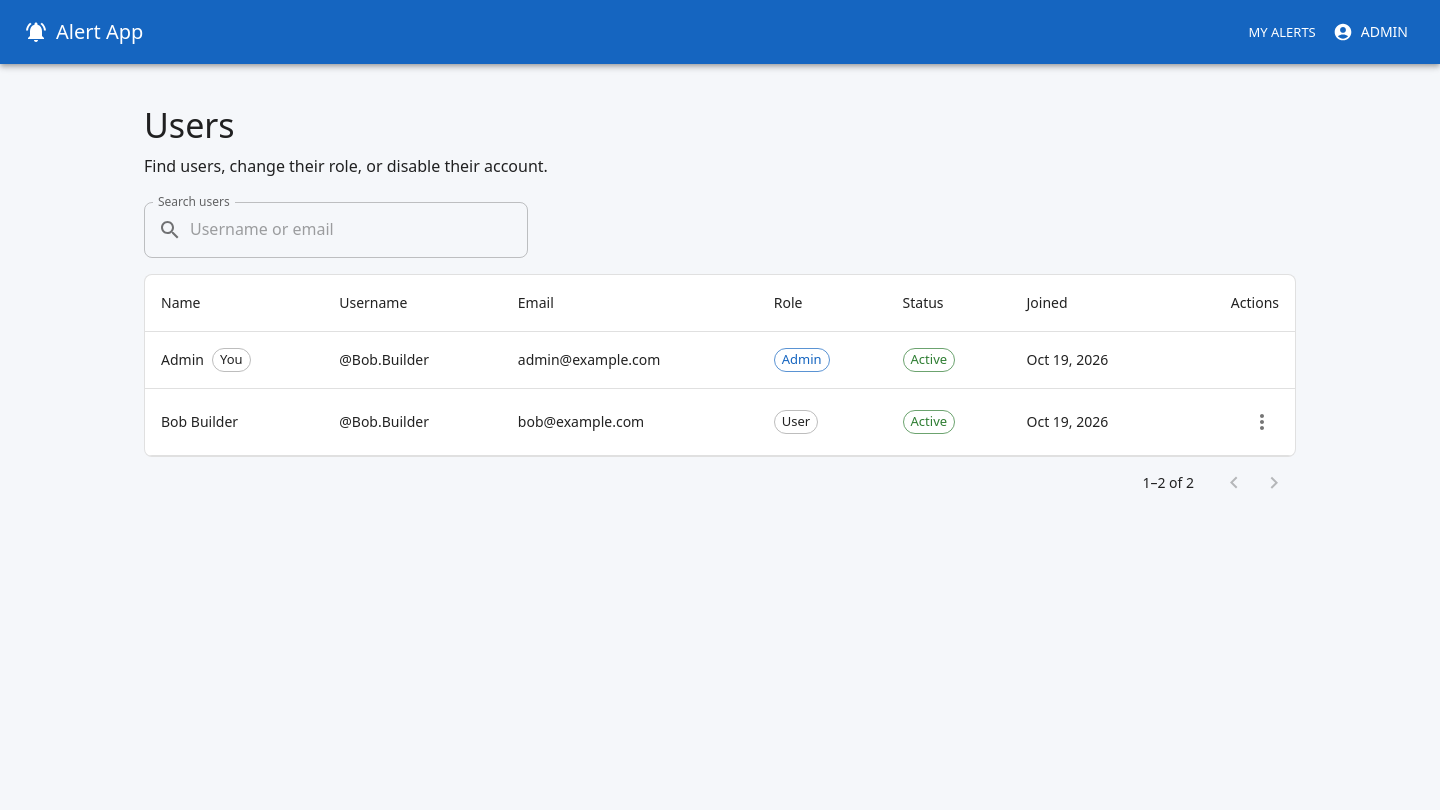
Test case: AdminUsersPage › makes a user admin, then reloads the list and says so
The width and height of the screenshot is (1440, 810).
Click the button named "Actions for Bob Builder" at (1262, 422), box [1245,405,1279,439]
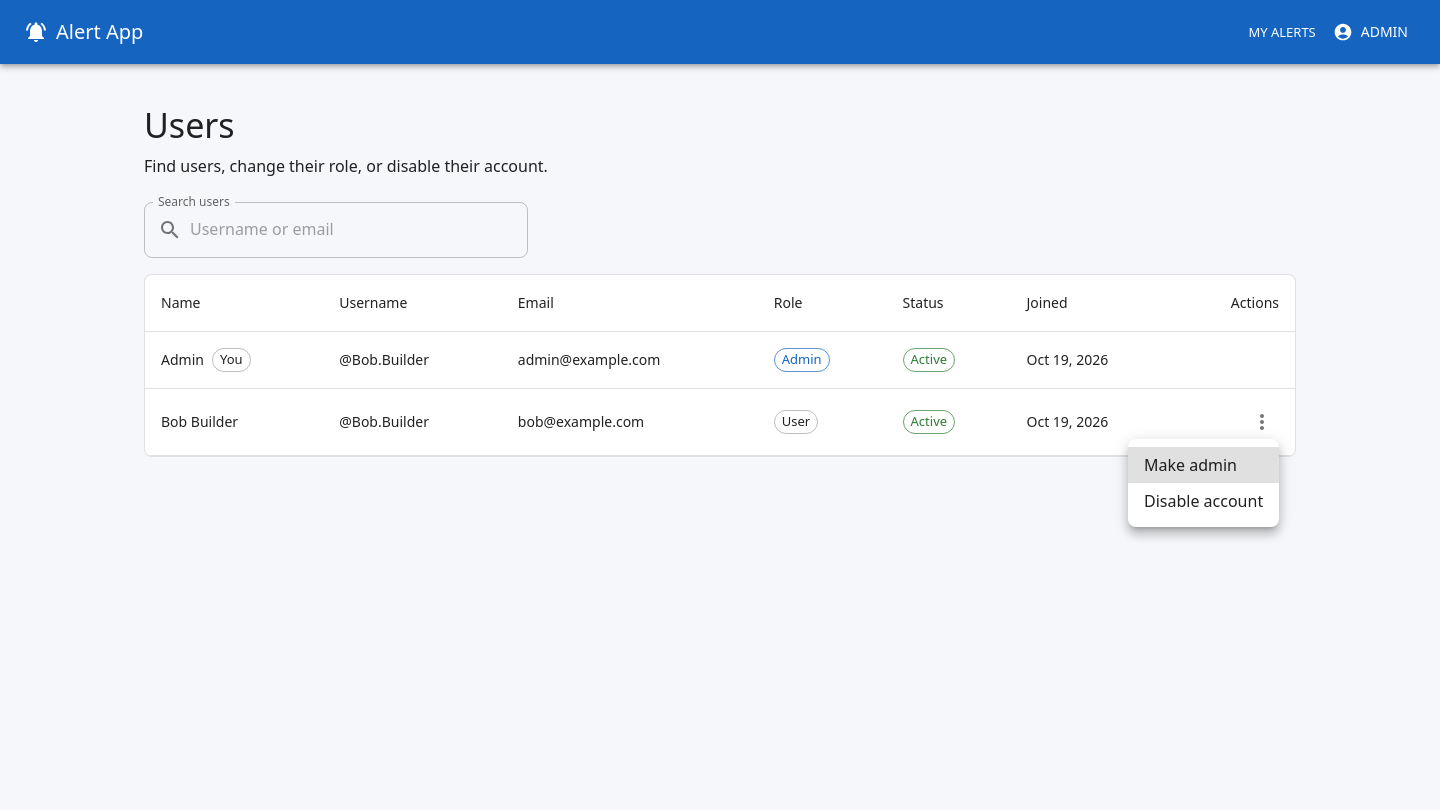
Click the menu item "Make admin" at (1204, 465), box [1128,447,1279,483]
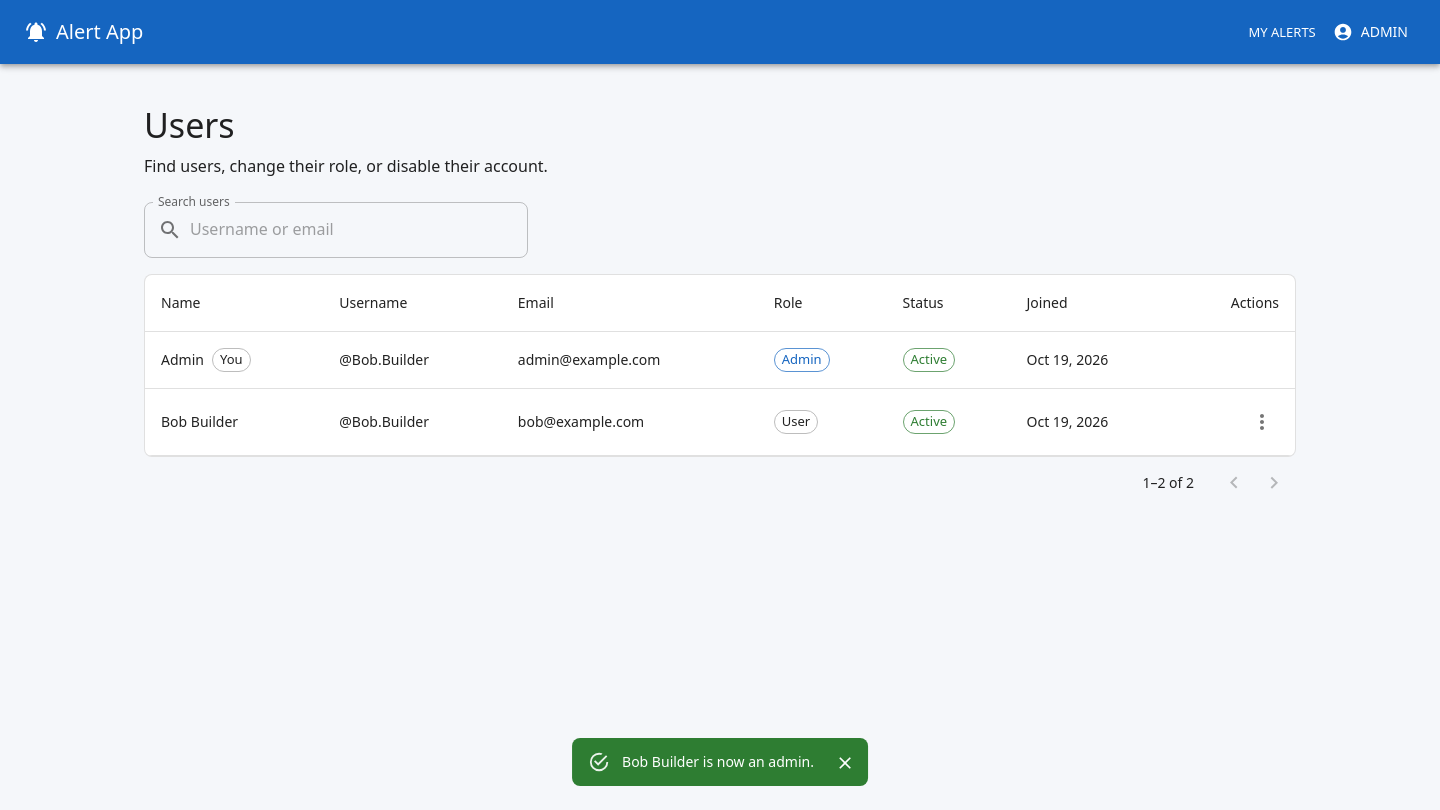
Result: the text "Bob Builder is now an admin." is shown at [622,752,814,771]
